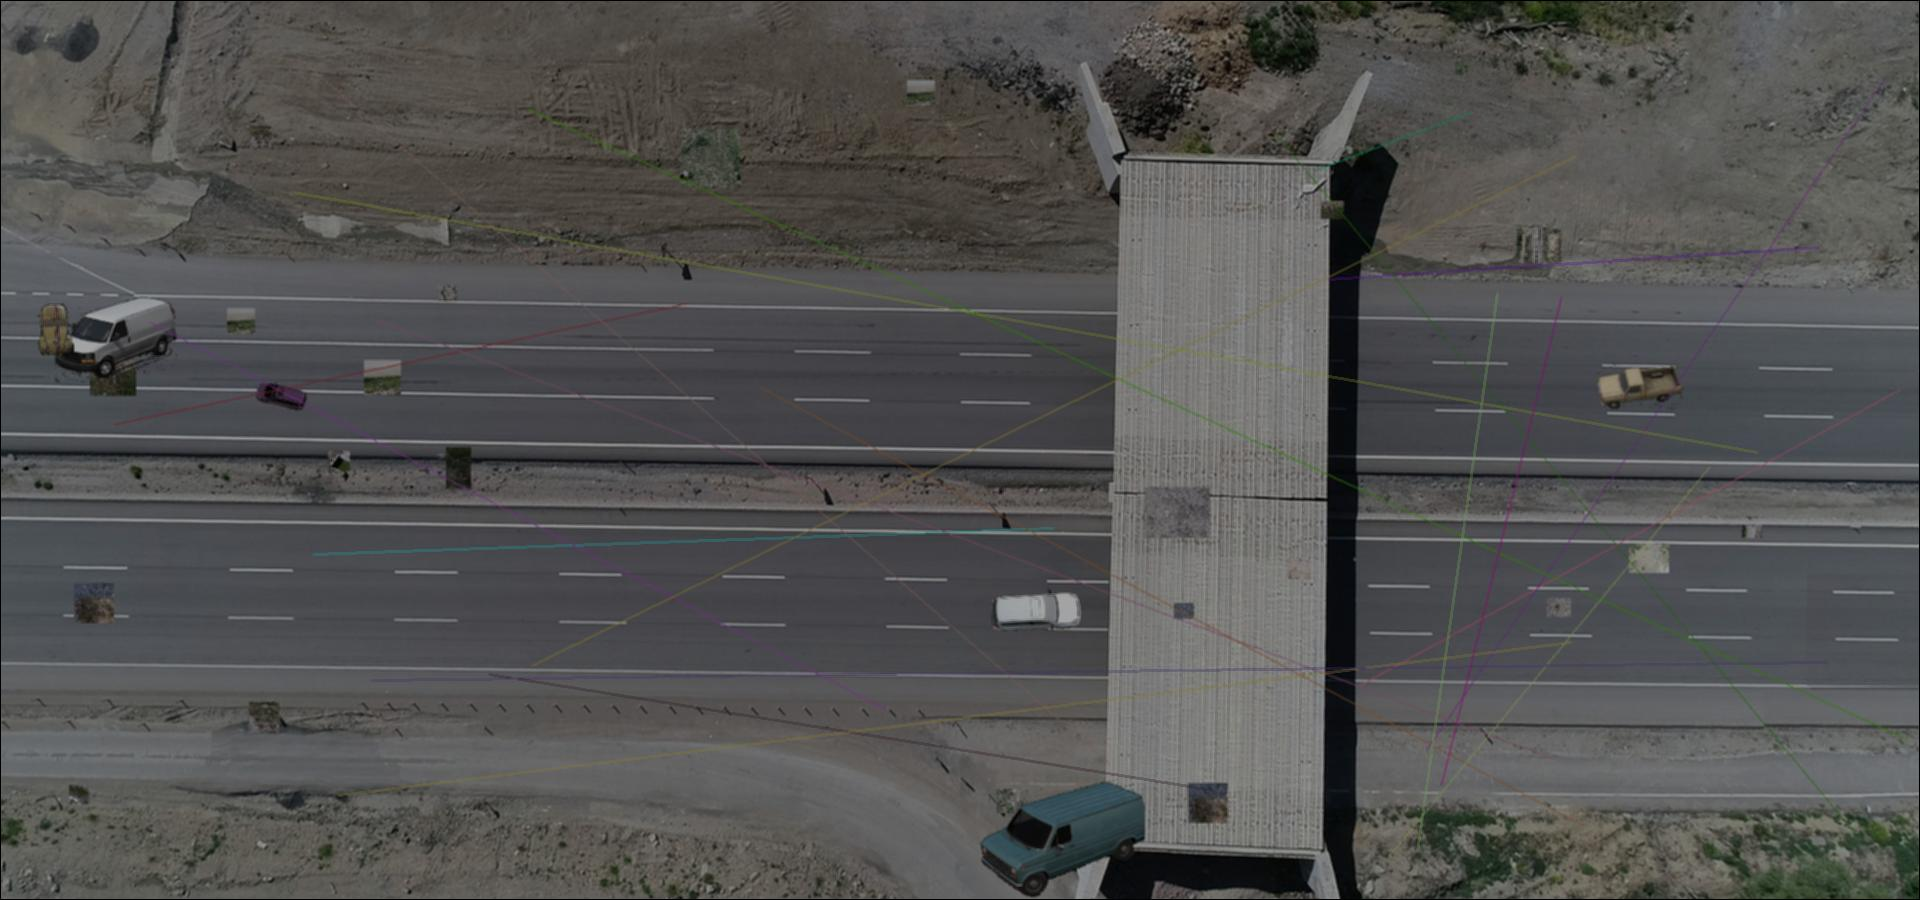arac: (978, 779, 1145, 898), (55, 296, 178, 382), (989, 587, 1082, 631), (1596, 364, 1682, 410), (255, 380, 309, 415), (38, 304, 75, 355)
